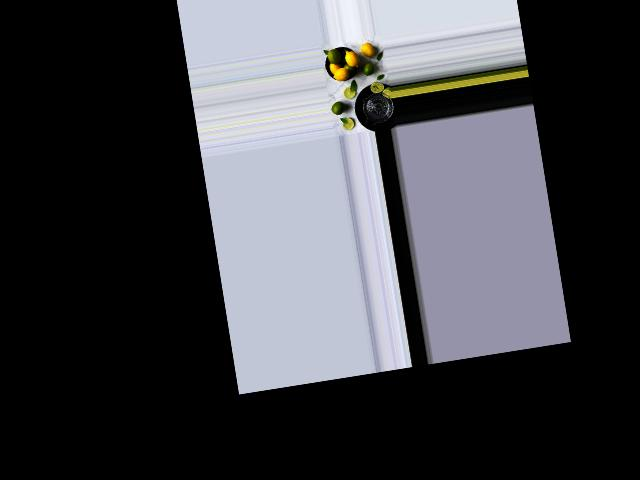lemon: (330, 100, 344, 116)
